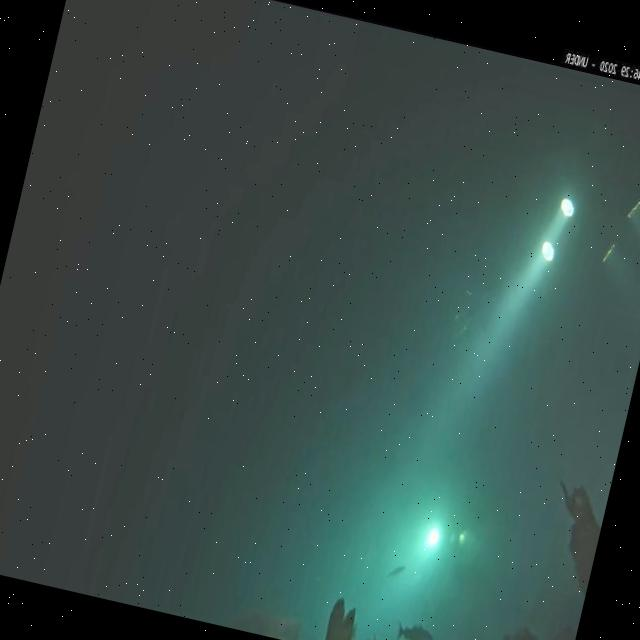fish: (395, 618, 433, 640), (387, 561, 405, 581)
